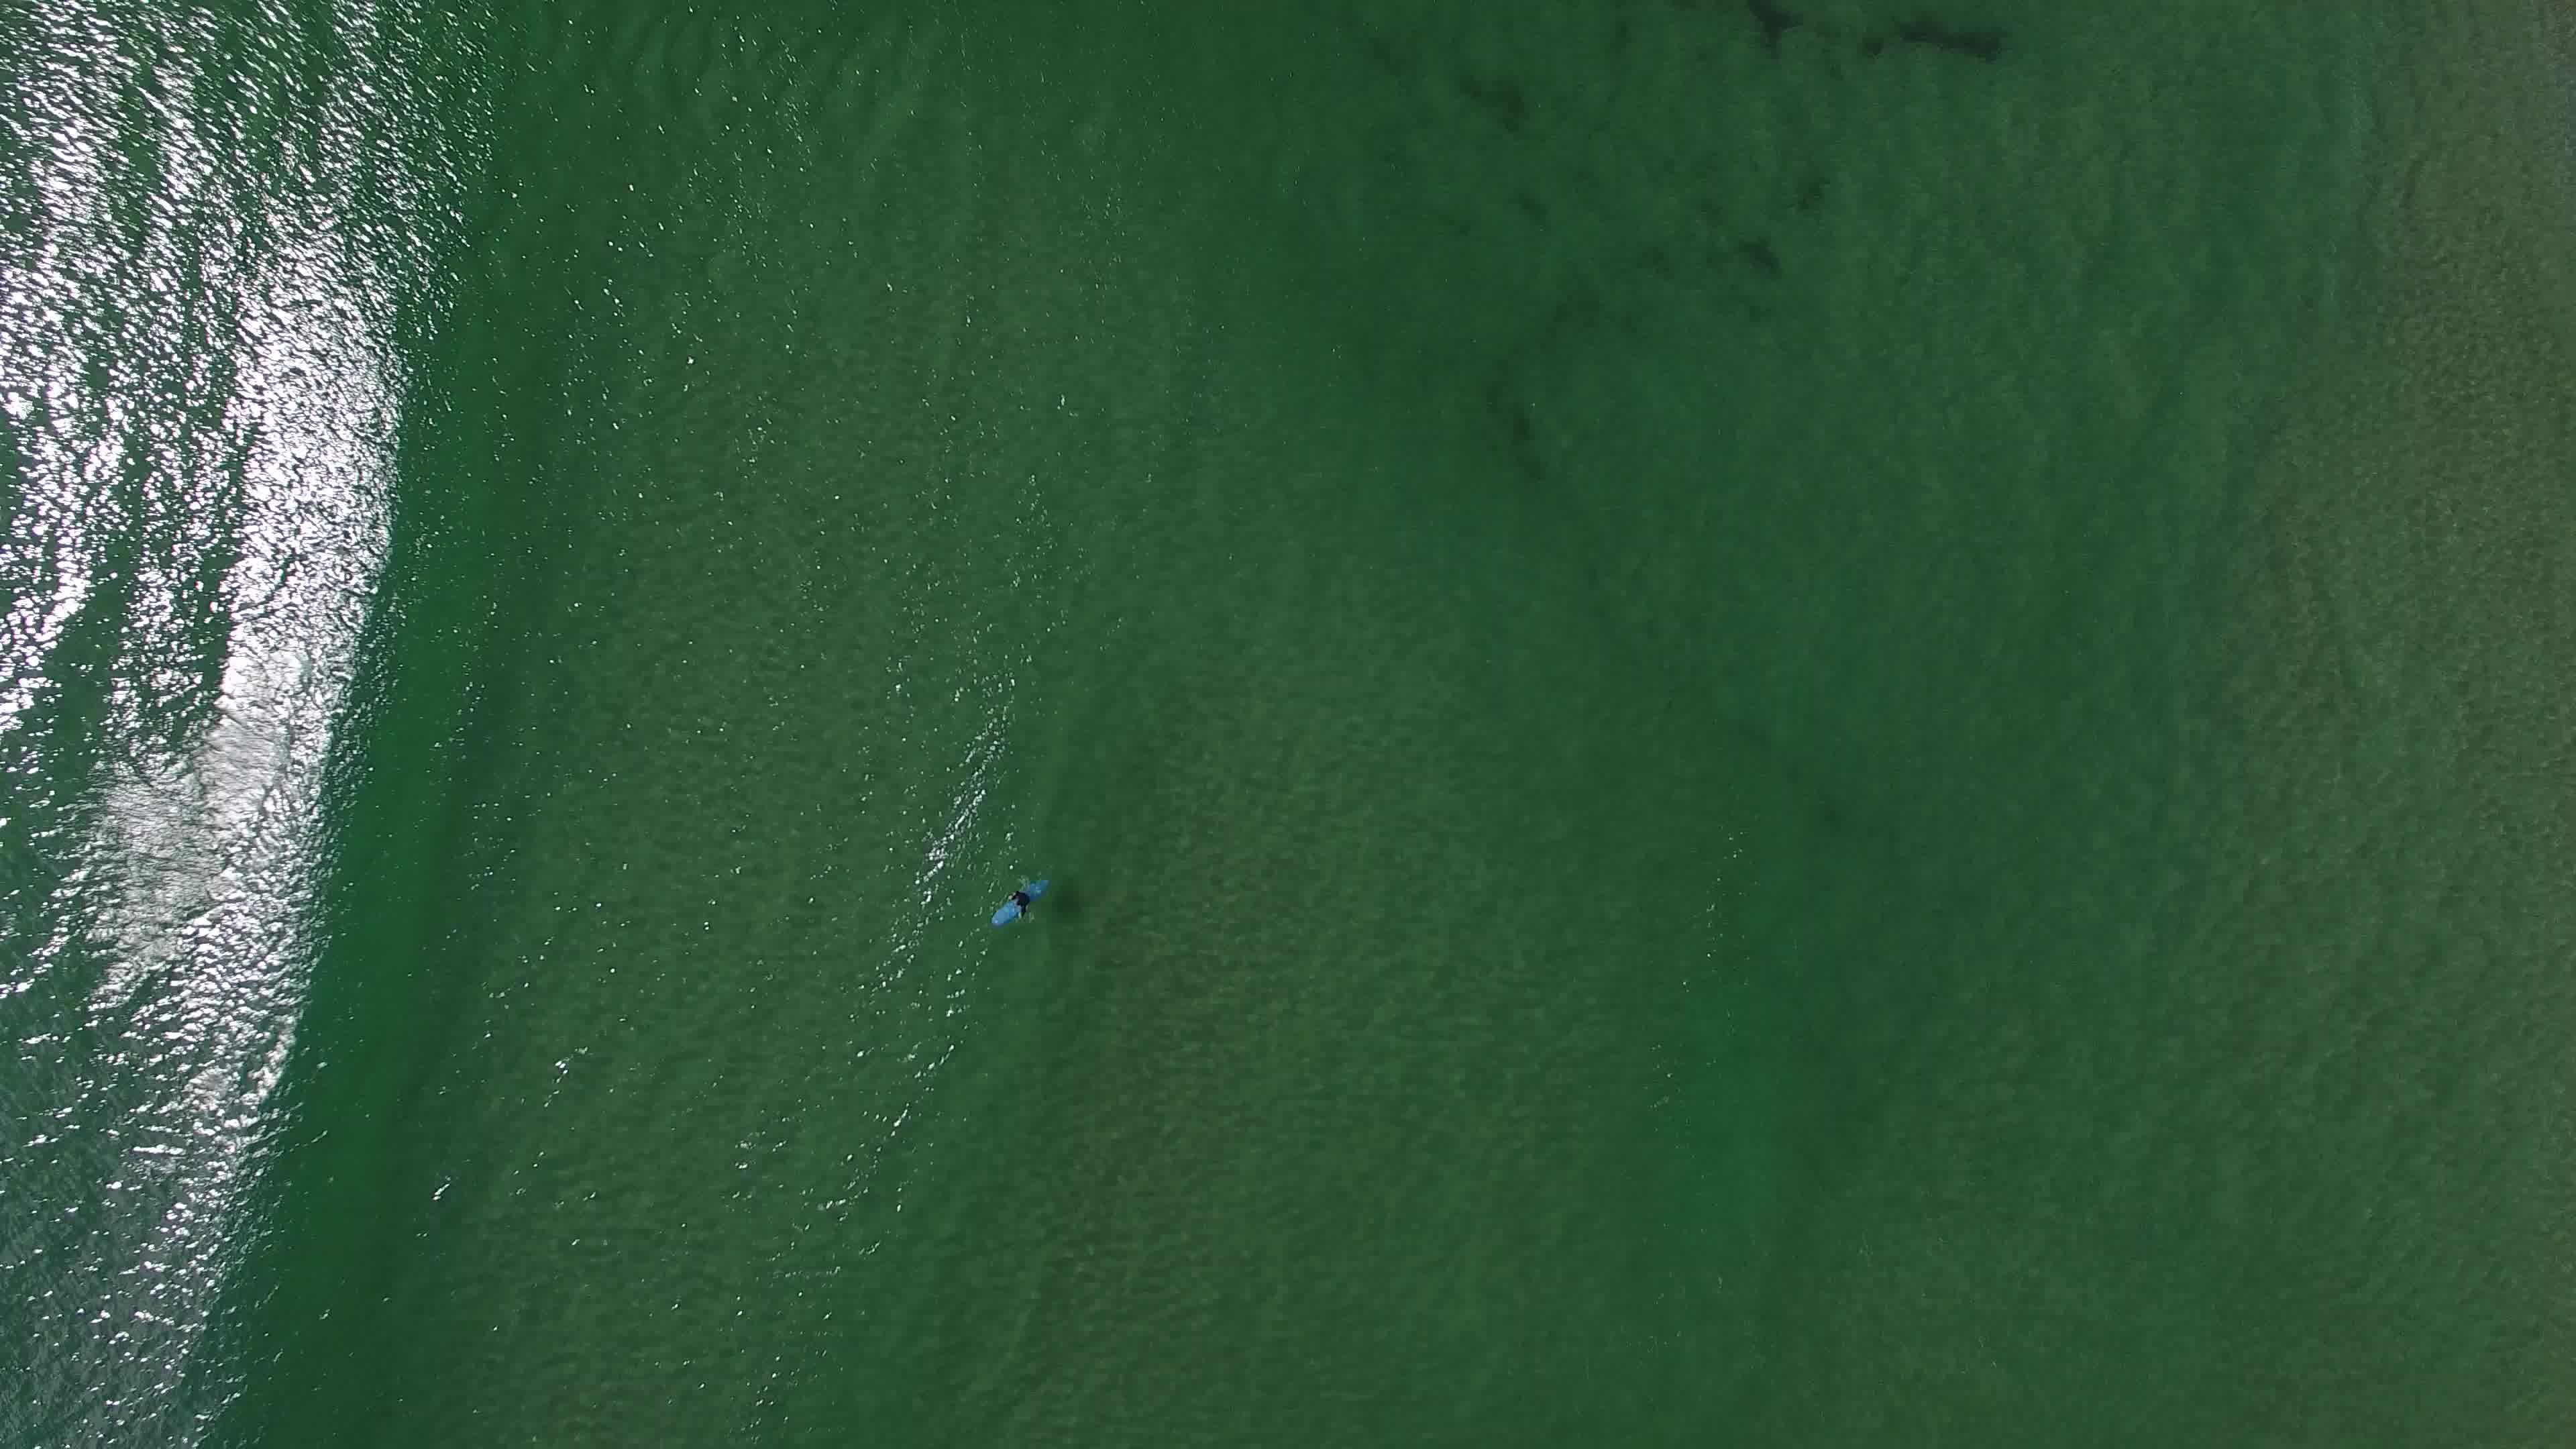surfer: (980, 872, 1060, 932)
